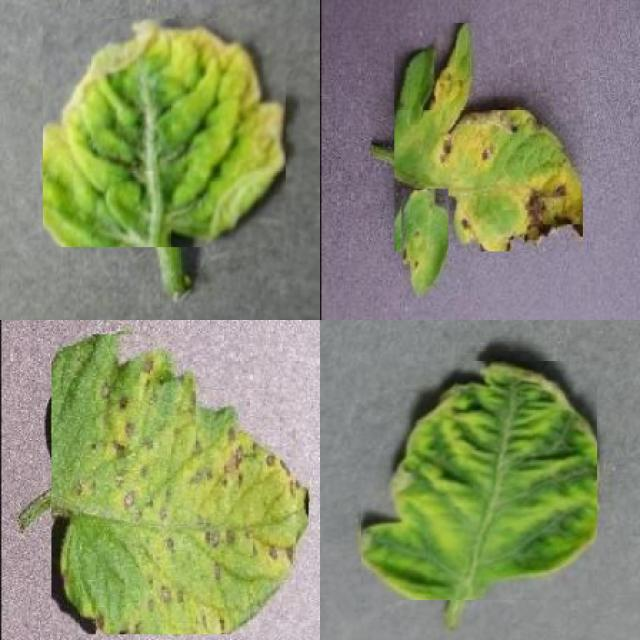Septoria: (52, 334, 308, 635), (394, 23, 582, 251), (402, 188, 448, 298)
Yellow Leaf Curl Virus: (360, 360, 597, 600), (44, 19, 286, 247)
